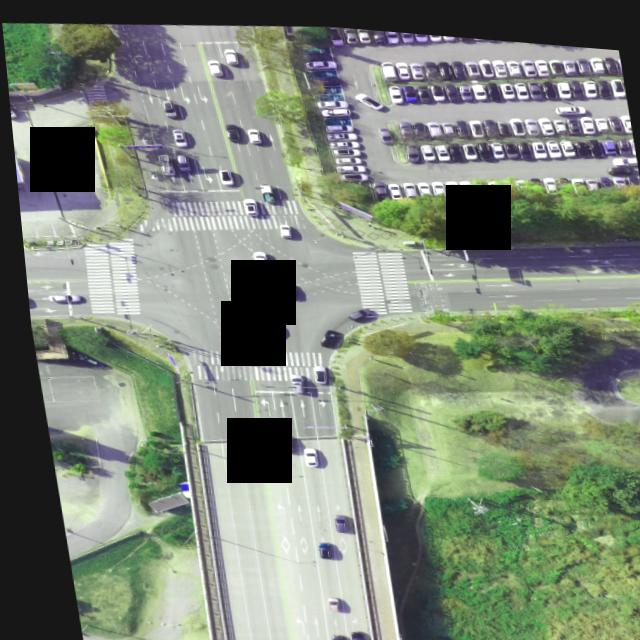car: (377, 54, 394, 73), (8, 100, 14, 117)
small_truck: (254, 176, 272, 198)
